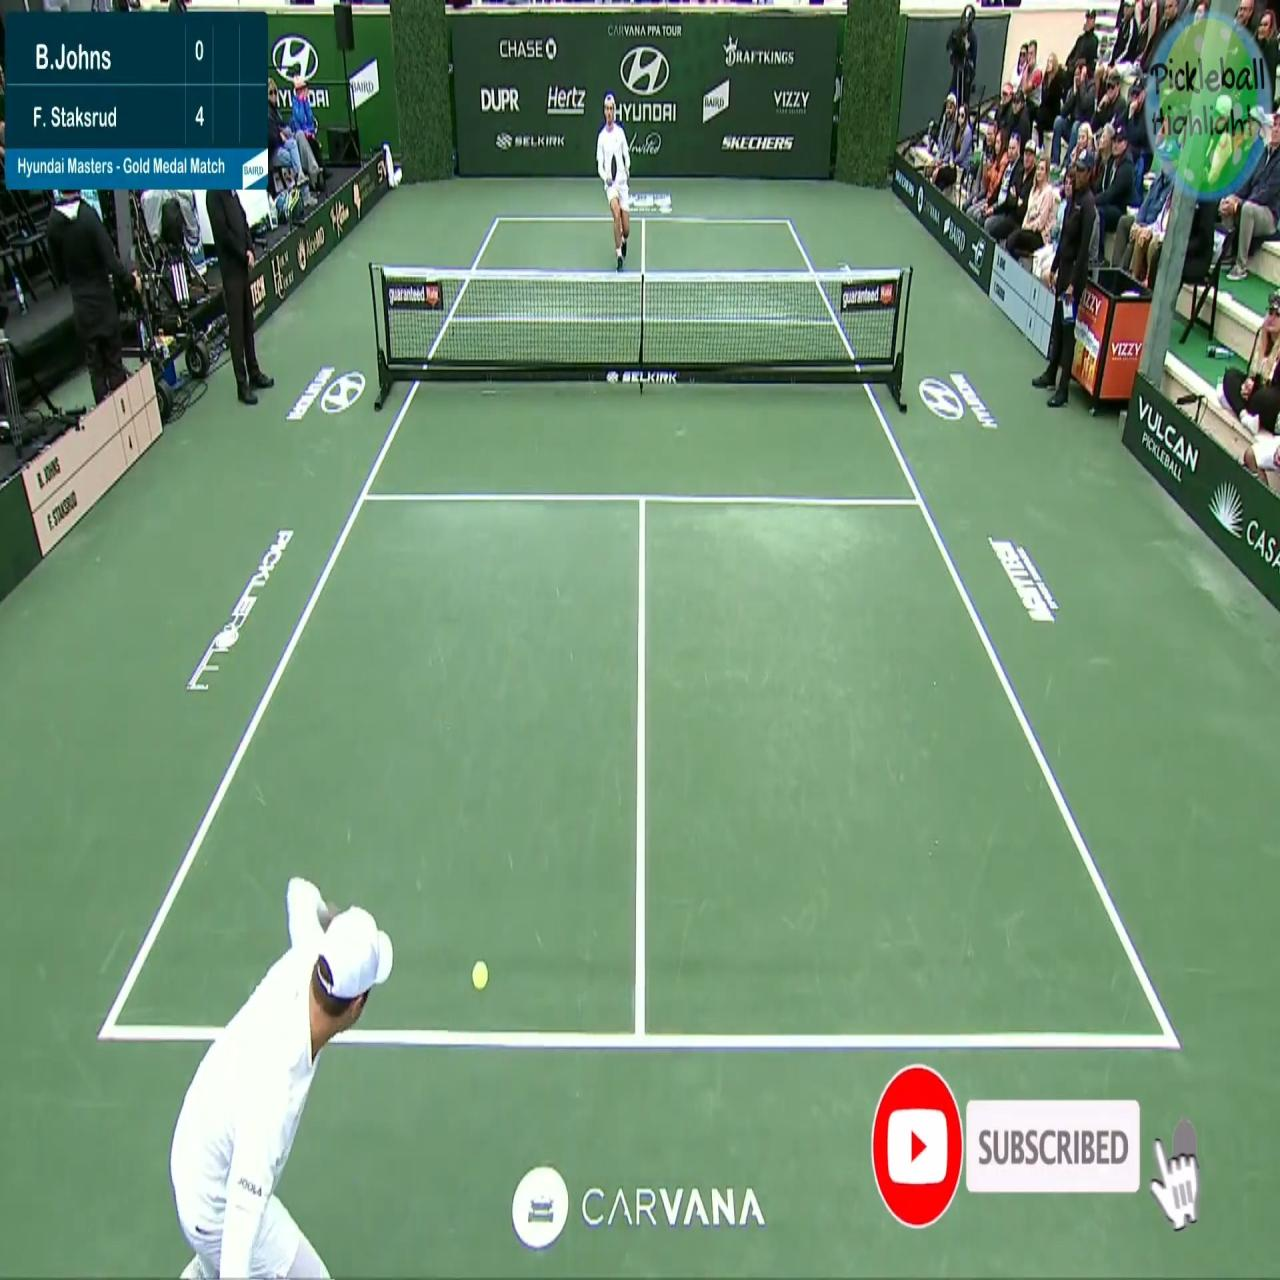pickleball: (472, 960, 488, 989)
